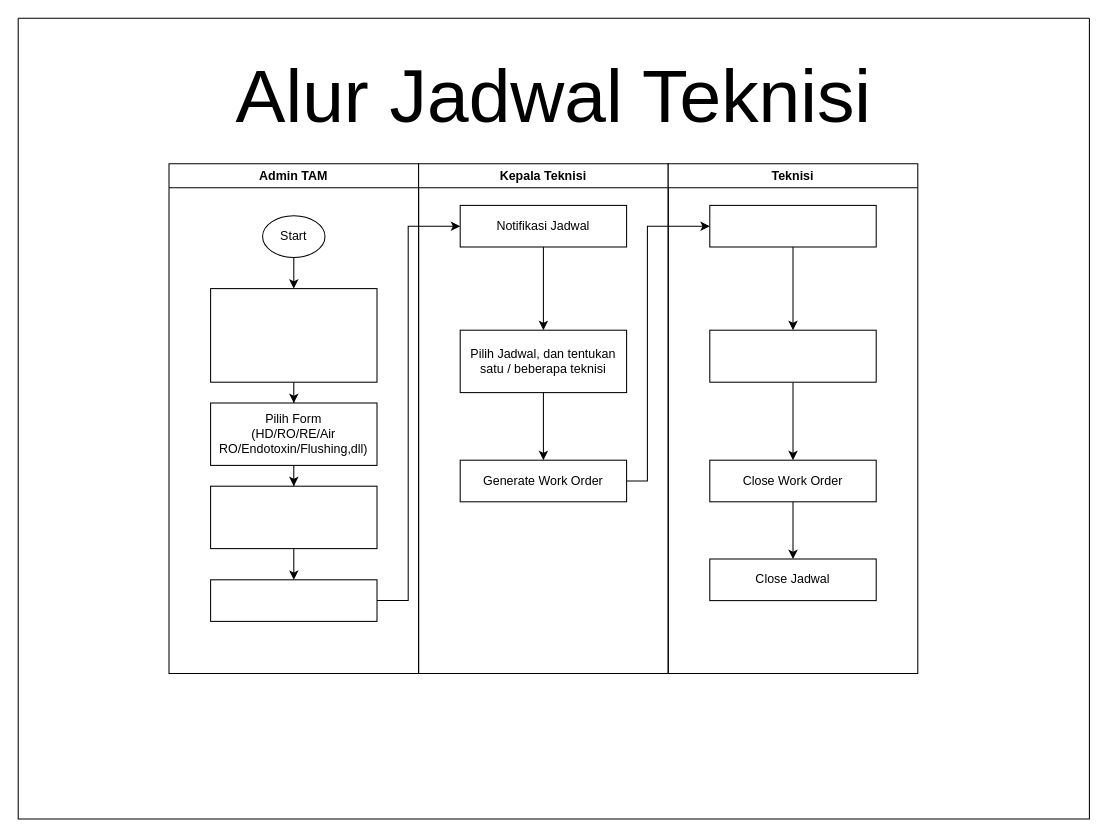
Some shapes in this 1108 by 837 pixel diagram are drawn without their labels. Here are the shapes that lost their labels. From the top down, the centre of each, then its label:
At (792,225): "Notifikasi Work Order".
At (293,335): "Jenis Pekerjaan 1. Cek Lab 2. Perawatan 3 Kalibrasi 4. Flushing".
At (792,355): "Open Work Order".
At (293,517): "Pilih Cabang,Customer & Tgl Plan".
At (293,600): "Generate Jadwal".
